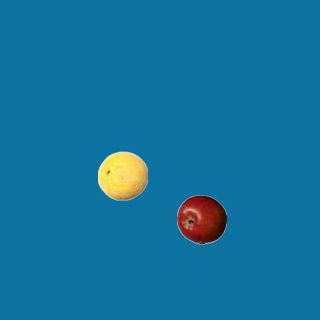Apple Braeburn: (176, 194, 226, 244)
Cantaloupe 1: (97, 150, 147, 200)
